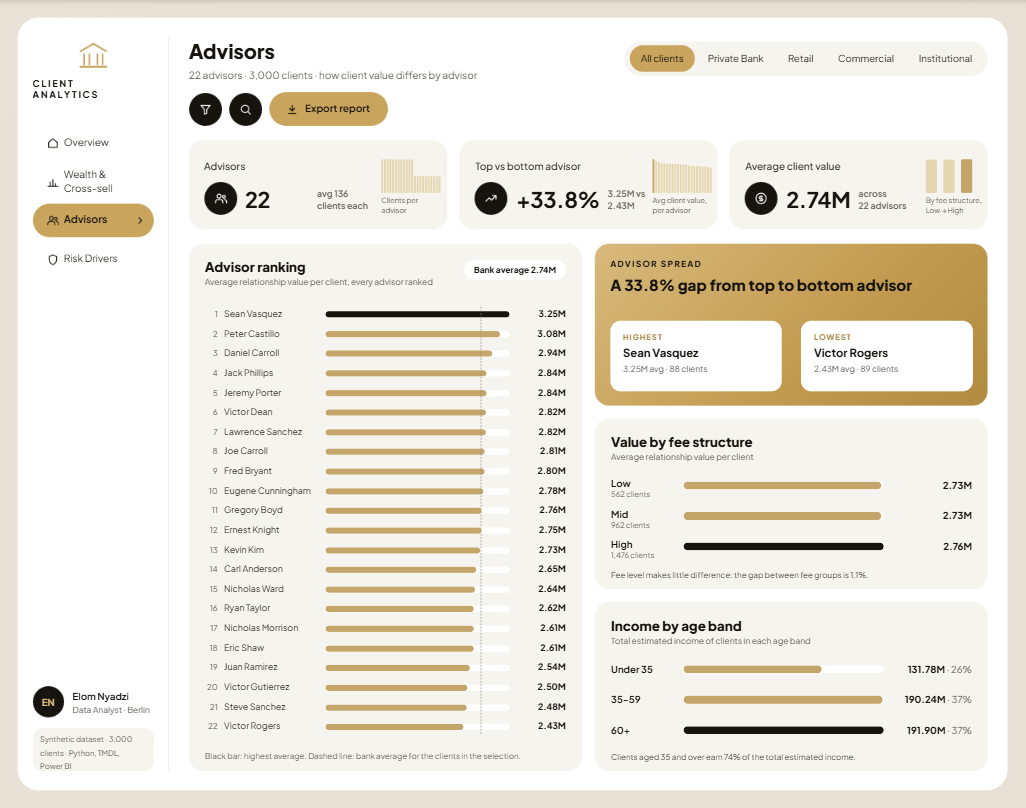

The page's visual inventory and layout, read from the dashboard file:
{"tool":"powerbi","page":{"name":"Page 3","canvas":[1280,720],"ordinal":2},"visuals":[{"type":"clusteredColumnChart","fields":{"Category":["banking_clients.banking_relationship"],"Series":["banking_clients.fee_structure"],"Y":["banking_clients.Avg Relationship Value"]},"box":[0,352,435,365],"z":0},{"type":"barChart","fields":{"Category":["banking_clients.investment_advisor"],"Y":["banking_clients.Avg Relationship Value"]},"box":[432,352,435,365],"z":1000},{"type":"barChart","fields":{"Category":["banking_clients.investment_advisor"],"Y":["banking_clients.Total Clients"]},"box":[864,352,400,365],"z":2000},{"type":"cardVisual","fields":{"Data":["banking_clients.Total Relationship Value"]},"box":[1040,192,240,112],"z":3000},{"type":"cardVisual","fields":{"Data":["banking_clients.Avg Products Held"]},"box":[1040,96,240,112],"z":4000},{"type":"cardVisual","fields":{"Data":["banking_clients.Avg Relationship Value"]},"box":[1040,0,240,112],"z":5000},{"type":"donutChart","fields":{"Category":["banking_clients.Age Band"],"Y":["Sum(banking_clients.credit_card_balance)"]},"box":[272,16,380,240],"z":6000},{"type":"donutChart","fields":{"Category":["banking_clients.Age Band"],"Y":["Sum(banking_clients.estimated_income)"]},"box":[656,16,380,240],"z":7000},{"type":"slicer","fields":{"Values":["banking_clients.Age Band"]},"box":[16,16,240,64],"z":8000},{"type":"slicer","fields":{"Values":["banking_clients.fee_structure"]},"box":[16,96,240,64],"z":9000}]}

Visuals, with their boxes on the page's 1280x720 design canvas (x1, y1, x2, y2). These are canvas units, not pixel positions in the 1026x808 screenshot, which may show the page scaled, cropped or inside an application window:
clusteredColumnChart - banking_clients.banking_relationship x banking_clients.fee_structure: 0/352/435/717
barChart - banking_clients.investment_advisor x banking_clients.Avg Relationship Value: 432/352/867/717
barChart - banking_clients.investment_advisor x banking_clients.Total Clients: 864/352/1264/717
cardVisual - banking_clients.Total Relationship Value: 1040/192/1280/304
cardVisual - banking_clients.Avg Products Held: 1040/96/1280/208
cardVisual - banking_clients.Avg Relationship Value: 1040/0/1280/112
donutChart - banking_clients.Age Band x Sum(banking_clients.credit_card_balance): 272/16/652/256
donutChart - banking_clients.Age Band x Sum(banking_clients.estimated_income): 656/16/1036/256
slicer - banking_clients.Age Band: 16/16/256/80
slicer - banking_clients.fee_structure: 16/96/256/160
